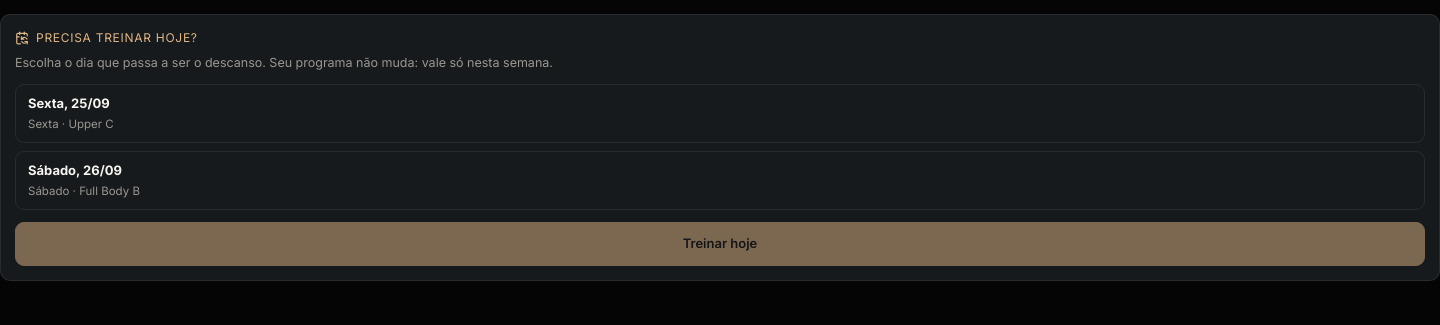
Test case: falha ao trocar aparece na tela e não some com o painel
Step 1. Click the radio button with test id "trocar-dia-opcao-2026-09-26" → (75, 170), box [15, 151, 1425, 210]
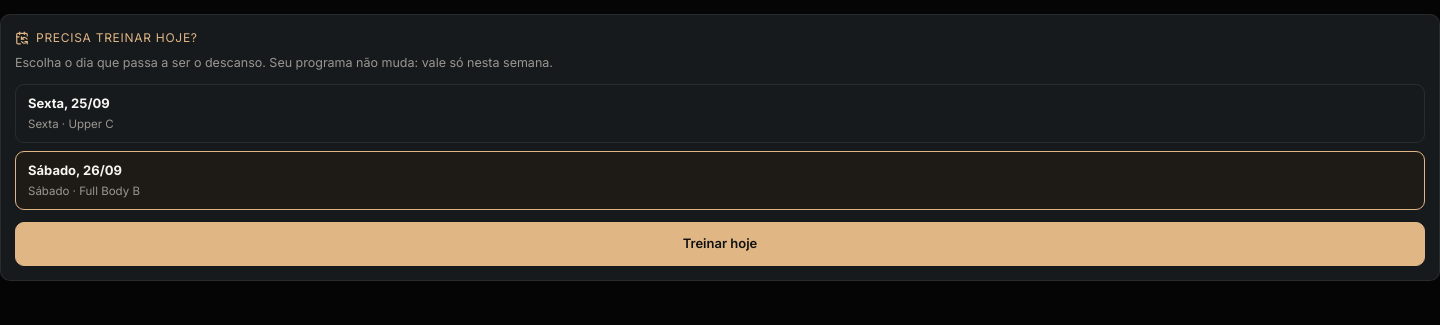
Step 2. Click the button with test id "trocar-dia-confirmar" → (720, 244), box [15, 222, 1425, 266]
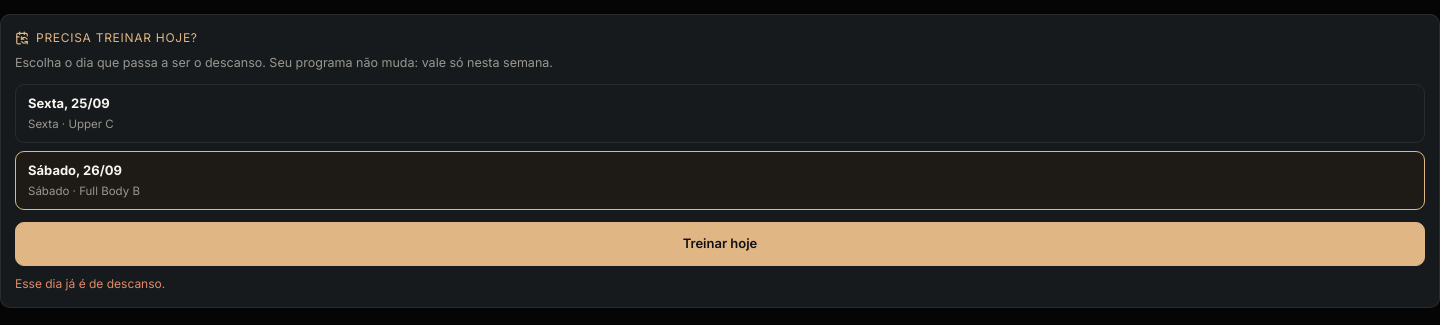
Expected: the message with test id "trocar-dia-erro" shows "descanso", [15, 276, 165, 291]
